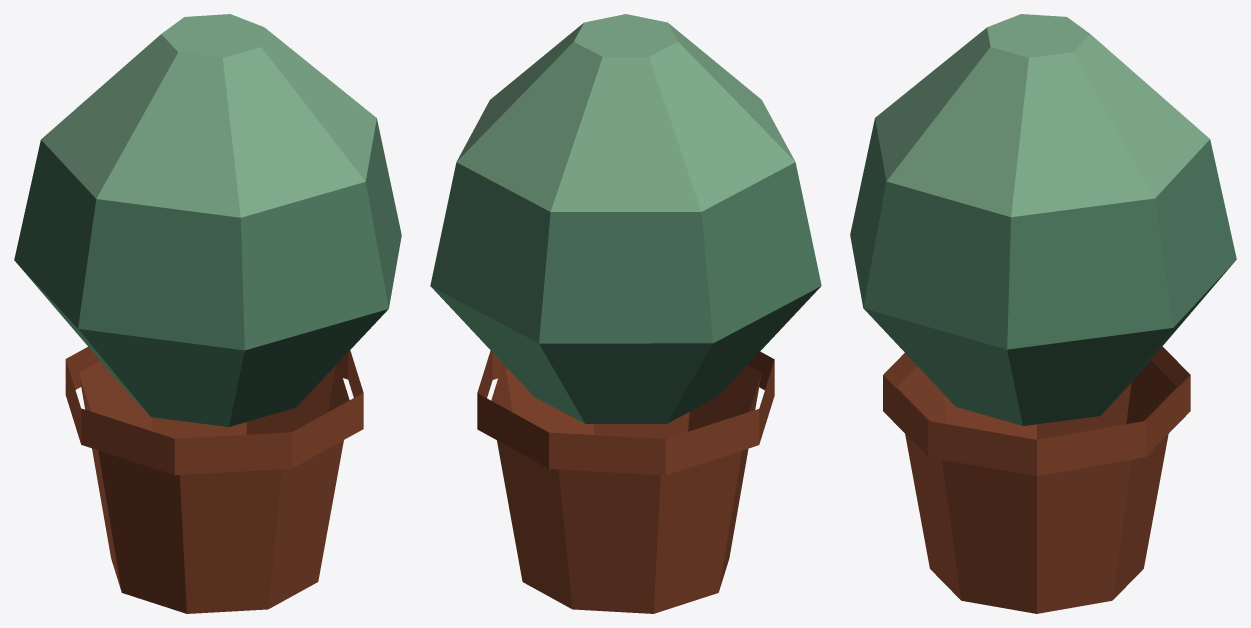
Rendered from PlantPot.fbx.
3 renders of one model, left to right at view 1: azimuth 30°, elevation 25°; view 2: azimuth 150°, elevation 25°; view 3: azimuth 270°, elevation 25°, orthographic.
Visible parts, largest first — view 1: Leaves, Pot; view 2: Leaves, Pot; view 3: Leaves, Pot.
Boxes of the visible parts, <box> form: Leaves: <box>14,14,401,426</box>; Pot: <box>65,347,363,613</box>; Leaves: <box>430,14,821,423</box>; Pot: <box>477,350,774,613</box>; Leaves: <box>850,14,1236,425</box>; Pot: <box>883,346,1190,613</box>.
Size of the model in its own units: 0.5833 by 0.88 by 0.5785.
